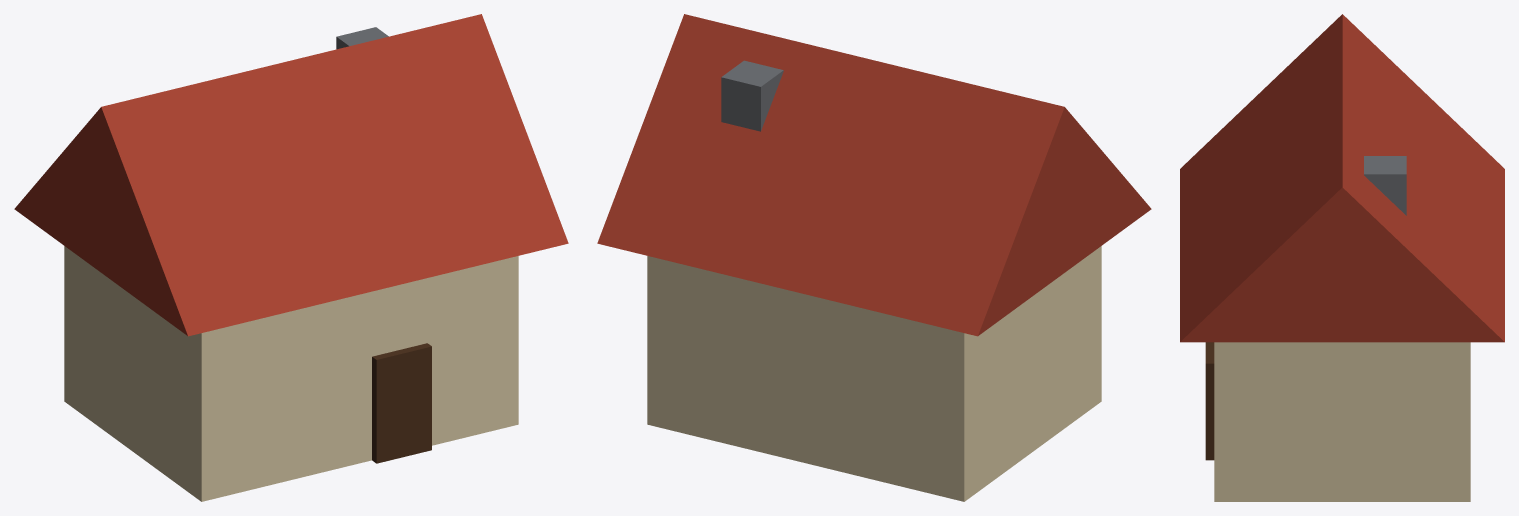
The model's file is house.fbx.
The picture shows the model from 3 angles, left to right: view 1: azimuth 30°, elevation 25°; view 2: azimuth 150°, elevation 25°; view 3: azimuth 270°, elevation 25°; orthographic projection. The views are drawn at different scales.
Visible parts, largest first — view 1: house; view 2: house; view 3: house.
Boxes of the visible parts, box(x1,y1,x2,y2) form: house: box(14, 14, 568, 501); house: box(597, 14, 1151, 501); house: box(1180, 14, 1504, 501).
Bounding box in the file's own units: 0.96 × 0.85 × 0.76.
